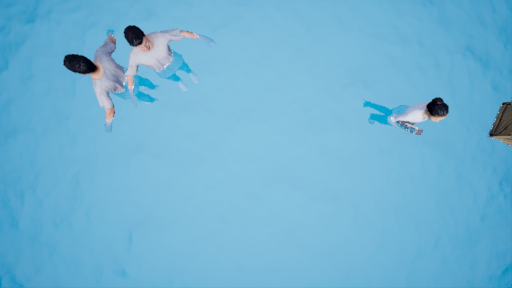person: (64, 24, 211, 132), (360, 93, 456, 139)
